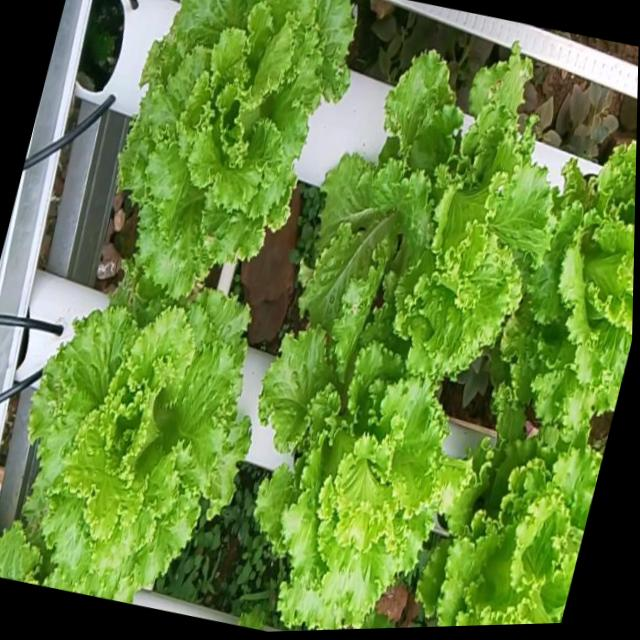Mature: (304, 50, 567, 391), (0, 296, 255, 606), (118, 0, 359, 311), (260, 322, 472, 631), (513, 141, 636, 427), (427, 431, 605, 627)
